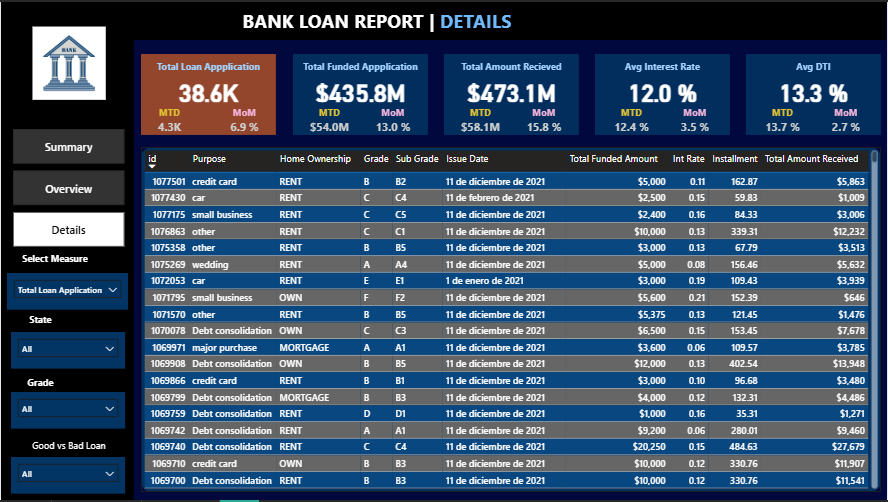

What the dashboard file says about the page in this screenshot:
{"tool":"powerbi","page":{"name":"Details","canvas":[1280,720],"ordinal":2},"visuals":[{"type":"shape","box":[202.4,209.6,1069.9,498.8],"z":0},{"type":"shape","box":[0,0,1280,55],"z":1000},{"type":"shape","box":[0,54.9,192.3,665.1],"z":2000},{"type":"textbox","box":[344.1,2.9,591.3,49.2],"z":3000},{"type":"shape","box":[202.4,75.2,195.2,117.1],"z":3000,"group":"g9"},{"type":"shape","box":[421.6,75.2,195.2,117.1],"z":3000,"group":"g2"},{"type":"shape","box":[640.1,75.2,195.2,117.1],"z":3000,"group":"g4"},{"type":"shape","box":[858.6,75.2,195.2,117.1],"z":3000,"group":"g5"},{"type":"shape","box":[1077.1,75.2,195.2,117.1],"z":3000,"group":"g11"},{"type":"group","id":"g1","title":"Group 1","box":[202.4,75.2,195.2,117.1],"z":4000},{"type":"card","fields":{"Values":["bank_loan_data.Total Loan Application"]},"box":[202.4,107,195.2,43.4],"z":4000,"group":"g10"},{"type":"card","fields":{"Values":["bank_loan_data.Total Funded Amount"]},"box":[421.6,107,195.2,43.4],"z":4000,"group":"g2"},{"type":"card","fields":{"Values":["bank_loan_data.Total Amount Received"]},"box":[640.1,107,195.2,43.4],"z":4000,"group":"g4"},{"type":"card","fields":{"Values":["bank_loan_data.Avg Interest Rate"]},"box":[858.6,107,195.2,43.4],"z":4000,"group":"g5"},{"type":"card","fields":{"Values":["bank_loan_data.Avg DTI"]},"box":[1077.1,107,195.2,43.4],"z":4000,"group":"g11"},{"type":"group","id":"g2","title":"Group 2","box":[421.6,75.2,195.2,117.3],"z":4001,"group":"g3"},{"type":"group","id":"g3","title":"Group 1","box":[421.6,75.2,195.2,117.3],"z":5000},{"type":"textbox","box":[202.4,79.5,195.2,27.5],"z":5000,"group":"g10"},{"type":"textbox","box":[421.6,79.5,195.2,27.5],"z":5000,"group":"g2"},{"type":"textbox","box":[640.1,79.5,195.2,27.5],"z":5000,"group":"g4"},{"type":"textbox","box":[858.6,79.5,195.2,27.5],"z":5000,"group":"g5"},{"type":"textbox","box":[1077.1,79.5,195.2,27.5],"z":5000,"group":"g11"},{"type":"group","id":"g4","title":"Group 3","box":[640.1,75.2,195.2,117.3],"z":5001,"group":"g6"},{"type":"group","id":"g5","title":"Group 4","box":[858.6,75.2,195.2,117.3],"z":5002,"group":"g7"},{"type":"group","id":"g6","title":"Group 2","box":[640.1,75.2,195.2,117.3],"z":6000},{"type":"card","title":"MTD","fields":{"Values":["bank_loan_data.MTD Loan Application"]},"box":[214,150.3,59.3,41.9],"z":6000,"group":"g10"},{"type":"card","title":"MTD","fields":{"Values":["bank_loan_data.MTD Funded Amount"]},"box":[439.2,150.6,70.8,41.9],"z":6000,"group":"g2"},{"type":"card","title":"MTD","fields":{"Values":["bank_loan_data.MTD Total Amount Recieved"]},"box":[657.7,150.6,70.8,41.9],"z":6000,"group":"g4"},{"type":"card","title":"MTD","fields":{"Values":["bank_loan_data.MTD Avg int Rate"]},"box":[876.2,150.6,70.8,41.9],"z":6000,"group":"g5"},{"type":"card","title":"MTD","fields":{"Values":["bank_loan_data.MTD Avg DTI"]},"box":[1094.7,150.6,70.8,41.9],"z":6000,"group":"g11"},{"type":"group","id":"g7","title":"Group 3","box":[858.6,75.2,195.2,117.3],"z":7000},{"type":"card","title":"MoM","fields":{"Values":["bank_loan_data.MoM Loan Application"]},"box":[322.4,150.3,59.3,41.9],"z":7000,"group":"g10"},{"type":"card","title":"MoM","fields":{"Values":["bank_loan_data.MoM Total Funded Amount"]},"box":[531.7,150.6,69.4,41.9],"z":7000,"group":"g2"},{"type":"card","title":"MoM","fields":{"Values":["bank_loan_data.MoM Total Amount recieved"]},"box":[750.2,150.6,69.4,41.9],"z":7000,"group":"g4"},{"type":"card","title":"MoM","fields":{"Values":["bank_loan_data.MoM Avg Int Rate"]},"box":[968.7,150.6,69.4,41.9],"z":7000,"group":"g5"},{"type":"card","title":"MoM","fields":{"Values":["bank_loan_data.MoM Avg DTI"]},"box":[1187.2,150.6,69.4,41.9],"z":7000,"group":"g11"},{"type":"group","id":"g8","title":"Group 5","box":[202.4,75.2,195.2,117.1],"z":7001,"group":"g1"},{"type":"group","id":"g9","title":"Group 6","box":[202.4,75.2,195.2,117.1],"z":7001,"group":"g8"},{"type":"group","id":"g10","title":"Group 7","box":[202.4,79.5,195.2,112.8],"z":7001,"group":"g9"},{"type":"group","id":"g11","title":"Group 4","box":[1077.1,75.2,195.2,117.1],"z":8000},{"type":"slicer","fields":{"Values":["bank_loan_data.address_state"]},"box":[14.5,477.5,164.8,53.5],"z":9000},{"type":"textbox","box":[17.3,445.7,79.5,31.8],"z":10000},{"type":"slicer","fields":{"Values":["bank_loan_data.grade"]},"box":[14.5,564.3,164.8,53.5],"z":11000},{"type":"textbox","box":[17.3,536.8,79.5,31.8],"z":12000},{"type":"textbox","box":[17.3,627.9,161.9,31.8],"z":13000},{"type":"slicer","fields":{"Values":["Select Measure.Select Measure"]},"box":[8.7,391.4,174.9,53.5],"z":14000},{"type":"textbox","box":[17.3,356.7,121.4,31.8],"z":15000},{"type":"slicer","fields":{"Values":["bank_loan_data.Good vs Bad Loan"]},"box":[14.5,658.2,164.8,53.5],"z":16000},{"type":"tableEx","fields":{"Values":["bank_loan_data.id","bank_loan_data.purpose","bank_loan_data.home_ownership","bank_loan_data.grade","bank_loan_data.sub_grade","bank_loan_data.issue_date","bank_loan_data.Total Funded Amount","Sum(bank_loan_data.int_rate)","Sum(bank_loan_data.installment)","bank_loan_data.Total Amount Received"]},"box":[202.4,209.6,1069.9,498.8],"z":17000},{"type":"pageNavigator","box":[17.3,183.6,161.9,172],"z":18000},{"type":"image","box":[40.5,27.5,115.7,122.9],"z":18001}]}

Visuals, with their boxes on the page's 1280x720 design canvas (x1, y1, x2, y2). These are canvas units, not pixel positions in the 888x502 screenshot, which may show the page scaled, cropped or inside an application window:
shape: {"left": 202, "top": 210, "right": 1272, "bottom": 708}
shape: {"left": 0, "top": 0, "right": 1280, "bottom": 55}
shape: {"left": 0, "top": 55, "right": 192, "bottom": 720}
textbox: {"left": 344, "top": 3, "right": 935, "bottom": 52}
shape: {"left": 202, "top": 75, "right": 398, "bottom": 192}
shape: {"left": 422, "top": 75, "right": 617, "bottom": 192}
shape: {"left": 640, "top": 75, "right": 835, "bottom": 192}
shape: {"left": 859, "top": 75, "right": 1054, "bottom": 192}
shape: {"left": 1077, "top": 75, "right": 1272, "bottom": 192}
"Group 1" group: {"left": 202, "top": 75, "right": 398, "bottom": 192}
card - bank_loan_data.Total Loan Application: {"left": 202, "top": 107, "right": 398, "bottom": 150}
card - bank_loan_data.Total Funded Amount: {"left": 422, "top": 107, "right": 617, "bottom": 150}
card - bank_loan_data.Total Amount Received: {"left": 640, "top": 107, "right": 835, "bottom": 150}
card - bank_loan_data.Avg Interest Rate: {"left": 859, "top": 107, "right": 1054, "bottom": 150}
card - bank_loan_data.Avg DTI: {"left": 1077, "top": 107, "right": 1272, "bottom": 150}
"Group 2" group: {"left": 422, "top": 75, "right": 617, "bottom": 192}
"Group 1" group: {"left": 422, "top": 75, "right": 617, "bottom": 192}
textbox: {"left": 202, "top": 80, "right": 398, "bottom": 107}
textbox: {"left": 422, "top": 80, "right": 617, "bottom": 107}
textbox: {"left": 640, "top": 80, "right": 835, "bottom": 107}
textbox: {"left": 859, "top": 80, "right": 1054, "bottom": 107}
textbox: {"left": 1077, "top": 80, "right": 1272, "bottom": 107}
"Group 3" group: {"left": 640, "top": 75, "right": 835, "bottom": 192}
"Group 4" group: {"left": 859, "top": 75, "right": 1054, "bottom": 192}
"Group 2" group: {"left": 640, "top": 75, "right": 835, "bottom": 192}
"MTD" card: {"left": 214, "top": 150, "right": 273, "bottom": 192}
"MTD" card: {"left": 439, "top": 151, "right": 510, "bottom": 192}
"MTD" card: {"left": 658, "top": 151, "right": 728, "bottom": 192}
"MTD" card: {"left": 876, "top": 151, "right": 947, "bottom": 192}
"MTD" card: {"left": 1095, "top": 151, "right": 1166, "bottom": 192}
"Group 3" group: {"left": 859, "top": 75, "right": 1054, "bottom": 192}
"MoM" card: {"left": 322, "top": 150, "right": 382, "bottom": 192}
"MoM" card: {"left": 532, "top": 151, "right": 601, "bottom": 192}
"MoM" card: {"left": 750, "top": 151, "right": 820, "bottom": 192}
"MoM" card: {"left": 969, "top": 151, "right": 1038, "bottom": 192}
"MoM" card: {"left": 1187, "top": 151, "right": 1257, "bottom": 192}
"Group 5" group: {"left": 202, "top": 75, "right": 398, "bottom": 192}
"Group 6" group: {"left": 202, "top": 75, "right": 398, "bottom": 192}
"Group 7" group: {"left": 202, "top": 80, "right": 398, "bottom": 192}
"Group 4" group: {"left": 1077, "top": 75, "right": 1272, "bottom": 192}
slicer - bank_loan_data.address_state: {"left": 14, "top": 478, "right": 179, "bottom": 531}
textbox: {"left": 17, "top": 446, "right": 97, "bottom": 478}
slicer - bank_loan_data.grade: {"left": 14, "top": 564, "right": 179, "bottom": 618}
textbox: {"left": 17, "top": 537, "right": 97, "bottom": 569}
textbox: {"left": 17, "top": 628, "right": 179, "bottom": 660}
slicer - Select Measure.Select Measure: {"left": 9, "top": 391, "right": 184, "bottom": 445}
textbox: {"left": 17, "top": 357, "right": 139, "bottom": 388}
slicer - bank_loan_data.Good vs Bad Loan: {"left": 14, "top": 658, "right": 179, "bottom": 712}
tableEx - bank_loan_data.id x bank_loan_data.purpose: {"left": 202, "top": 210, "right": 1272, "bottom": 708}
pageNavigator: {"left": 17, "top": 184, "right": 179, "bottom": 356}
image: {"left": 40, "top": 28, "right": 156, "bottom": 150}
